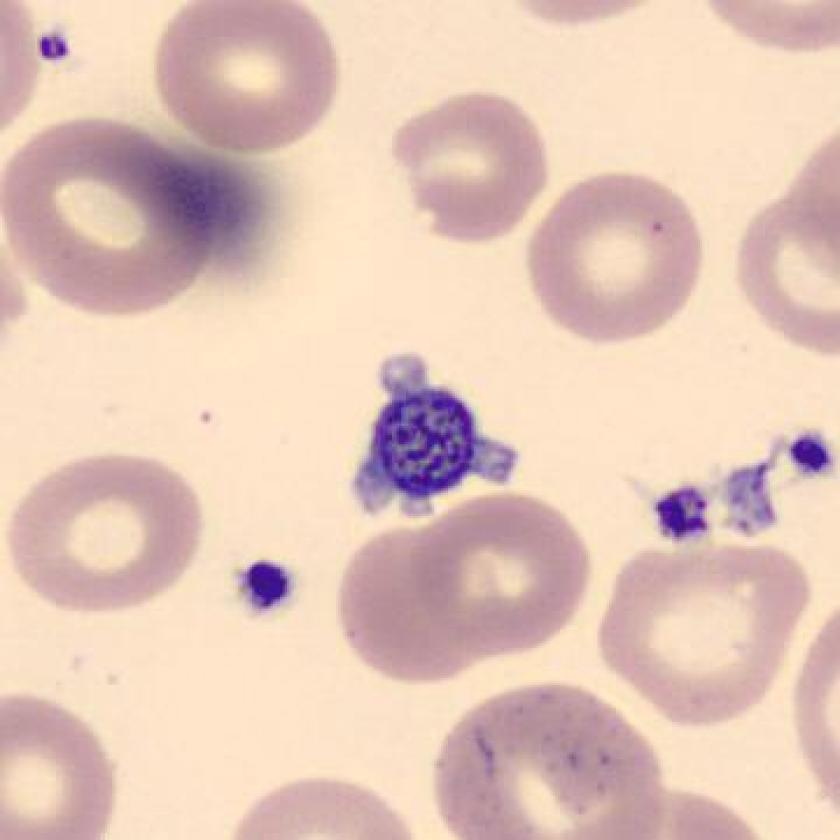platelets: (340, 346, 522, 531), (640, 469, 727, 564), (223, 547, 314, 633), (780, 422, 840, 492)
